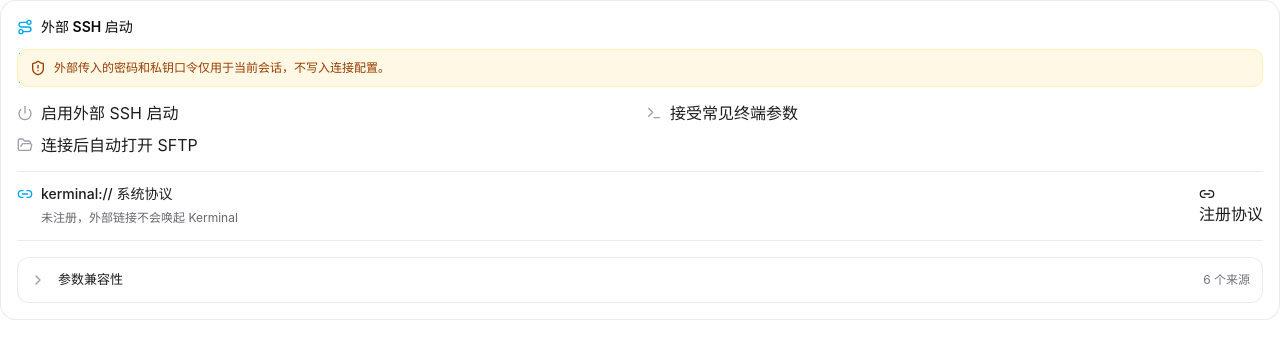
Test: ExternalLaunchSettingsSection deep link › registers the opt-in Windows protocol and refreshes visible state
Click the button "注册协议". click: click(1231, 206)
box: [1199,186,1263,226]
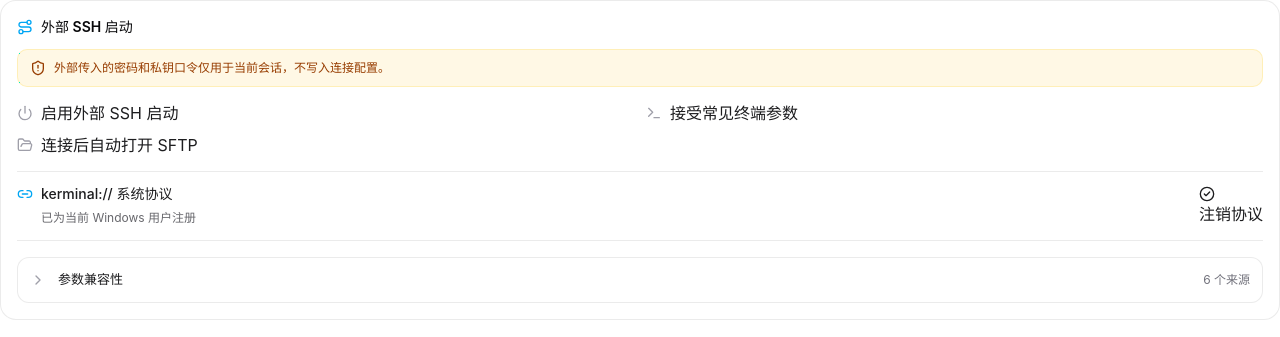
Check: the text "已为当前 Windows 用户注册" is shown, box [41,208,196,228]
